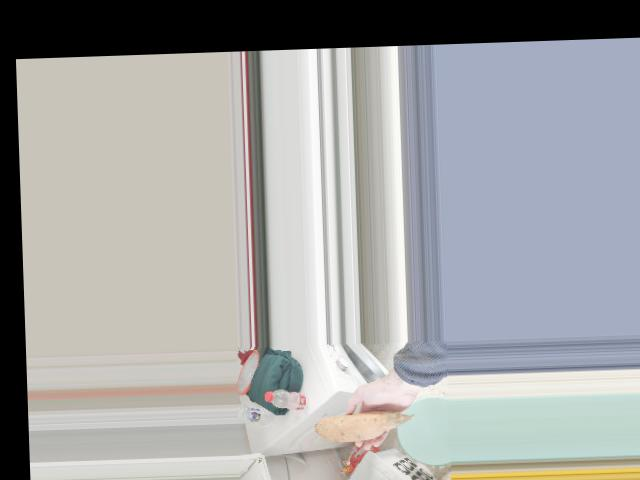sweet_potato: (322, 408, 409, 436)
